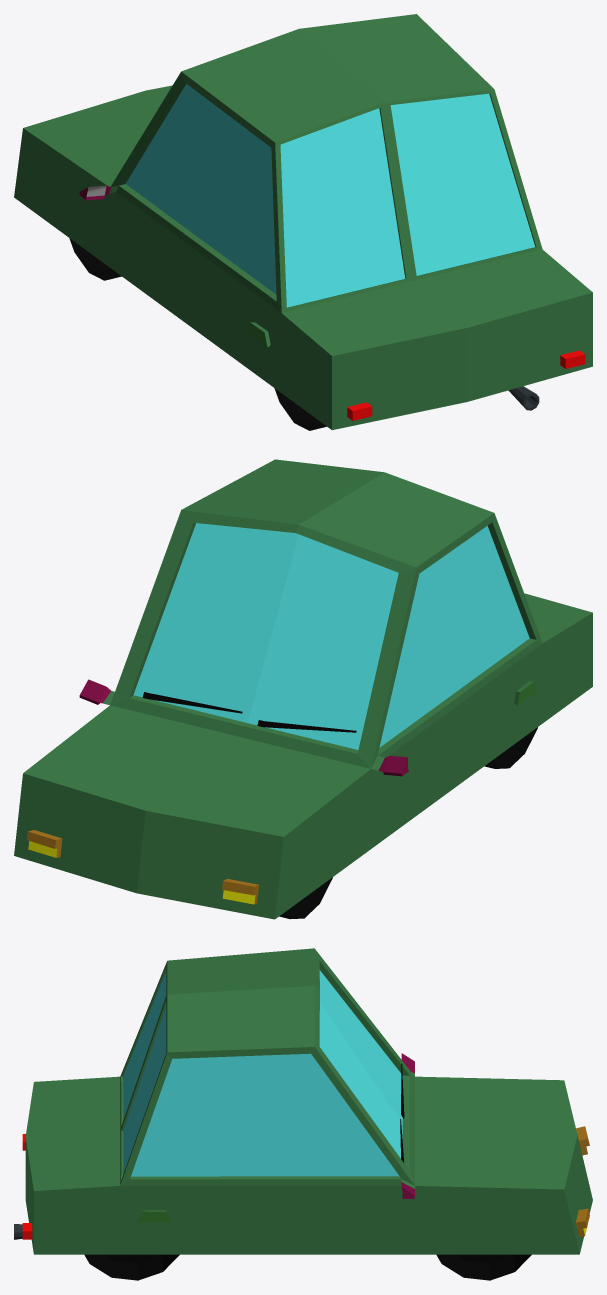
The model's file is LowPolyCar.fbx.
3 renders of one model, top to bottom at view 1: azimuth 30°, elevation 25°; view 2: azimuth 150°, elevation 25°; view 3: azimuth 270°, elevation 25°, orthographic. The views are drawn at different scales.
Parts seen in each view (by area): view 1: Cube; view 2: Cube; view 3: Cube.
Part boxes in pixels (box(x1,y1,x2,y2)): Cube: box(14, 14, 592, 430); Cube: box(14, 459, 592, 919); Cube: box(14, 948, 592, 1280).
Bounding box in the file's own units: 39.16 × 33.95 × 70.95.
